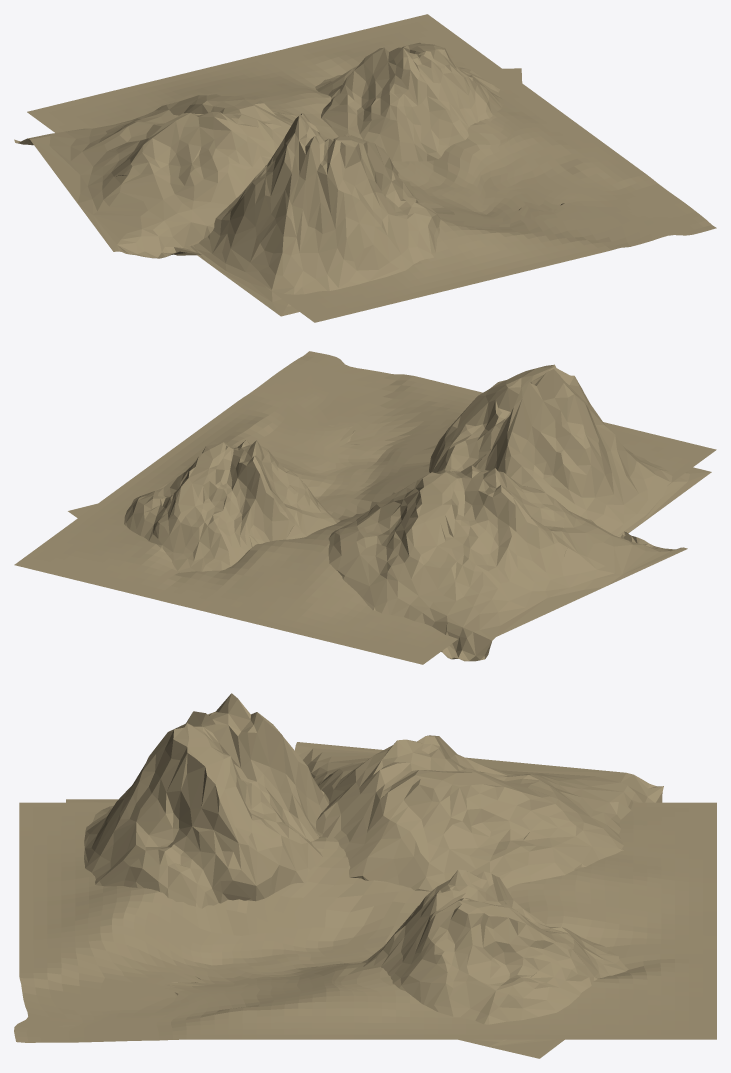
The model's file is winter_terrain.fbx.
3 views of the same model, one above another, from view 1: azimuth 30°, elevation 25°; view 2: azimuth 150°, elevation 25°; view 3: azimuth 270°, elevation 25° (orthographic). The views are drawn at different scales.
Parts seen in each view (by area): view 1: Landscape, Landscape_7, Landscape_3, Landscape_5; view 2: Landscape, Landscape_3, Landscape_7, Landscape_5; view 3: Landscape, Landscape_3, Landscape_7, Landscape_5.
Boxes of the visible parts, x1,y1,x2,y2 form: Landscape: [27, 14, 716, 322]; Landscape_7: [185, 113, 441, 316]; Landscape_3: [14, 94, 297, 258]; Landscape_5: [315, 42, 522, 161]; Landscape: [14, 351, 716, 664]; Landscape_3: [328, 465, 687, 661]; Landscape_7: [429, 364, 711, 537]; Landscape_5: [68, 440, 340, 572]; Landscape: [14, 802, 716, 1042]; Landscape_3: [295, 735, 663, 891]; Landscape_7: [66, 693, 329, 908]; Landscape_5: [361, 869, 628, 1058].
Size of the model in its own units: 15161 by 5373 by 15000.
